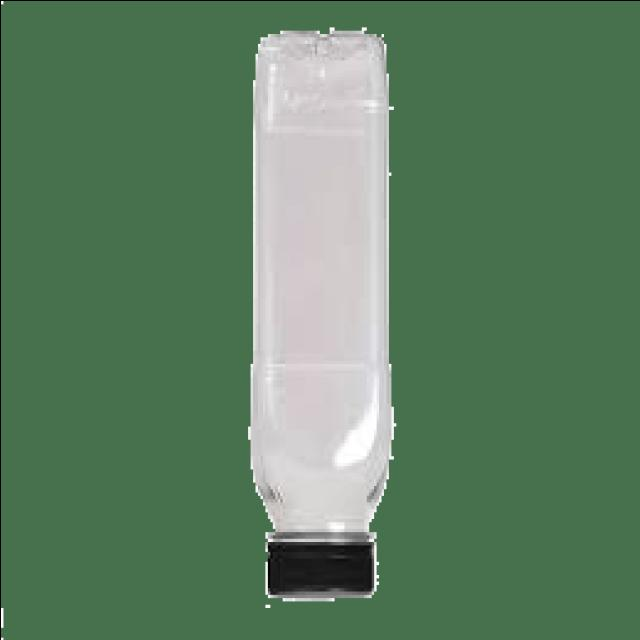bottom: (243, 19, 400, 131)
cap: (254, 505, 381, 613)
